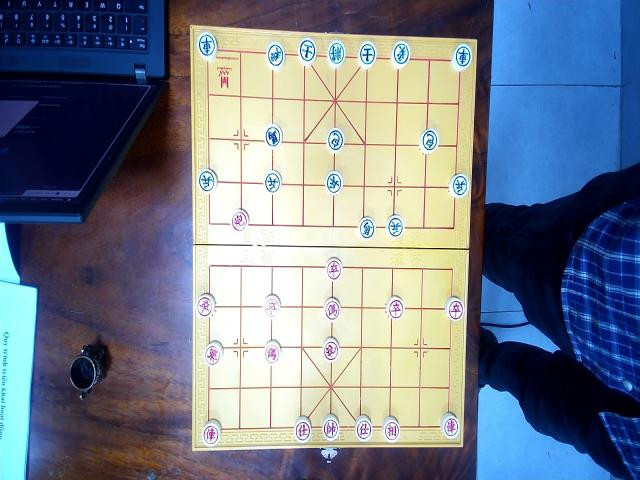piece: (196, 30, 218, 60), (450, 43, 472, 72), (326, 39, 346, 68), (448, 172, 469, 199), (390, 41, 410, 69), (266, 41, 285, 70), (418, 128, 438, 155), (444, 295, 464, 322), (440, 412, 460, 439), (358, 40, 377, 68), (299, 37, 317, 66), (201, 420, 221, 446), (381, 416, 400, 443), (197, 168, 217, 193), (326, 127, 345, 153), (203, 341, 222, 367), (294, 416, 312, 443), (322, 414, 340, 441), (354, 415, 372, 441), (322, 337, 340, 363), (323, 297, 341, 322), (386, 295, 404, 320), (196, 293, 214, 318), (386, 214, 404, 238), (325, 171, 343, 195), (325, 257, 343, 281), (358, 216, 376, 240), (264, 124, 282, 148), (265, 339, 281, 364), (231, 208, 248, 231), (264, 294, 280, 317), (264, 171, 280, 194)
